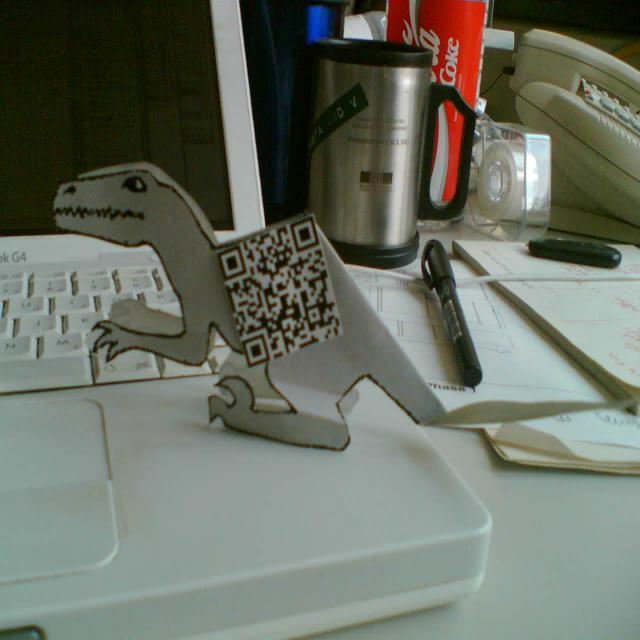qrcode: (218, 217, 341, 369)
